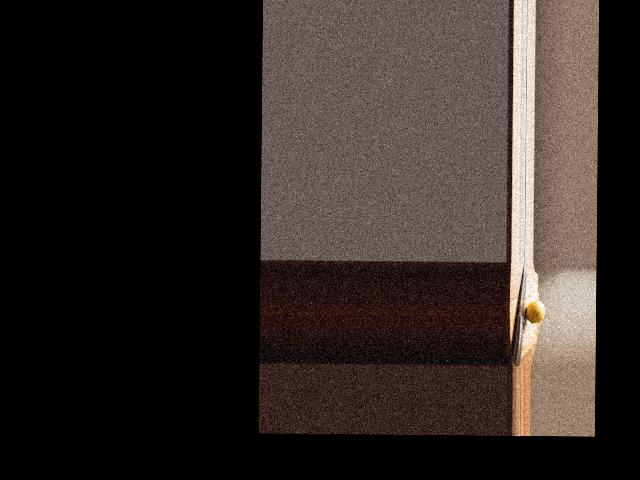lemon: (526, 299, 546, 325)
